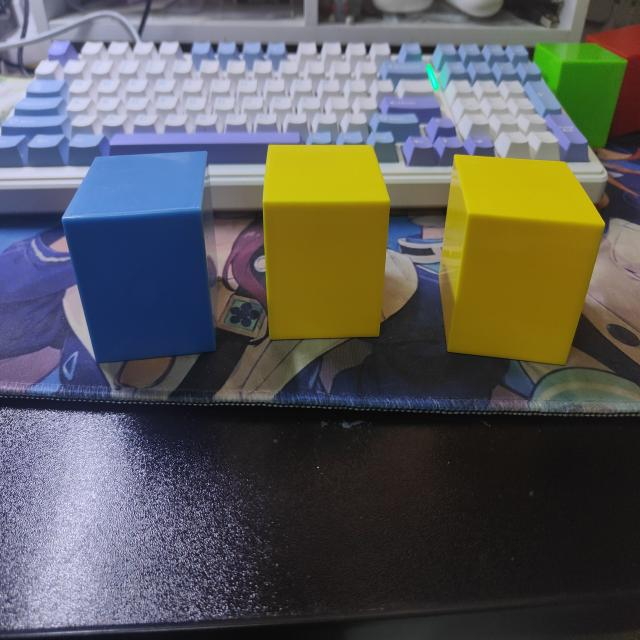blue: (61, 150, 222, 362)
yellow: (440, 154, 606, 368), (260, 145, 391, 344)
